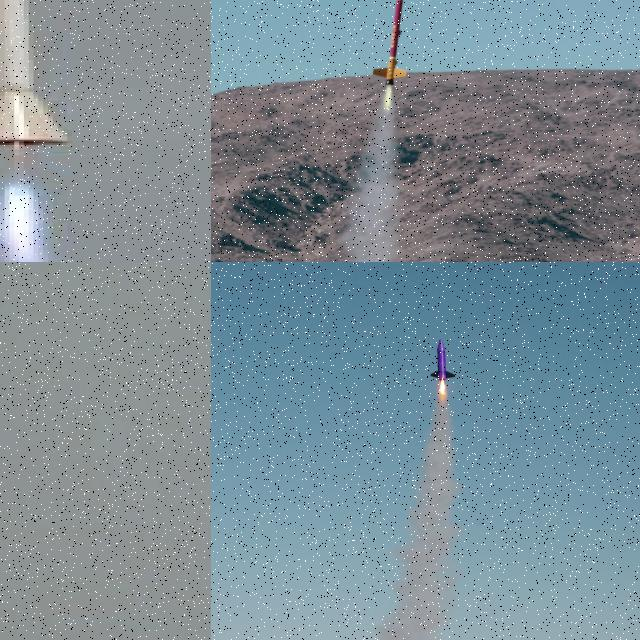Rocket: (0, 0, 81, 160), (371, 0, 408, 86), (430, 339, 456, 381)
